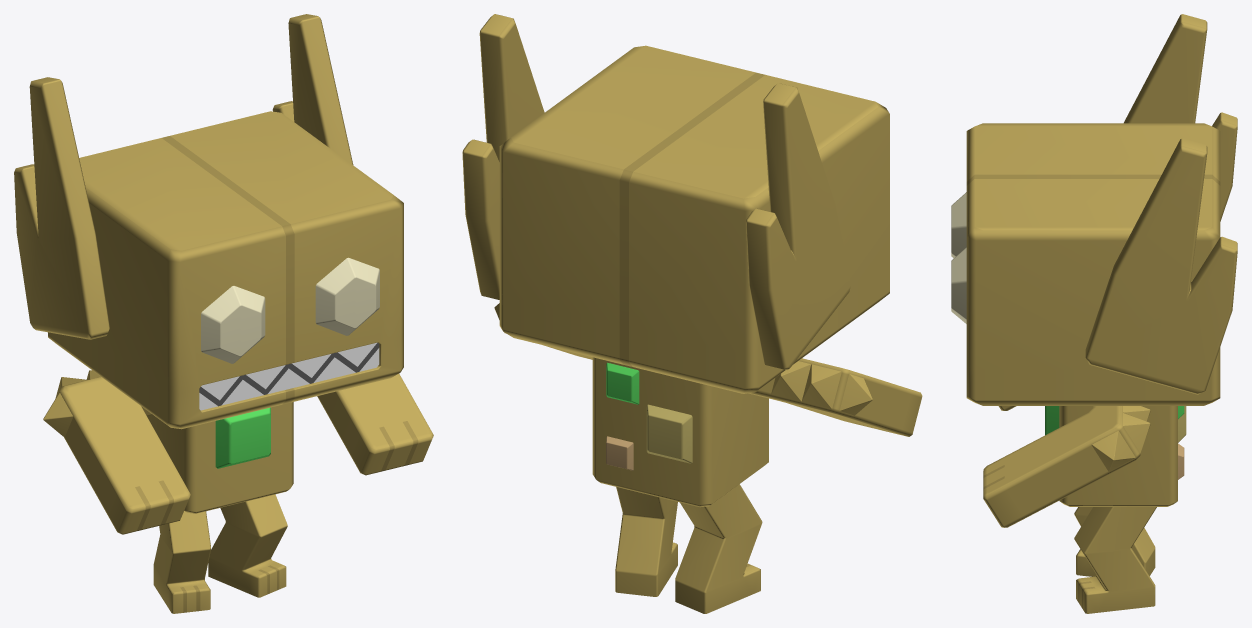
File: model_shiny.obj
3 renders of one model, left to right at view 1: azimuth 30°, elevation 25°; view 2: azimuth 150°, elevation 25°; view 3: azimuth 270°, elevation 25°, orthographic. The views are drawn at different scales.
Parts seen in each view (by area): view 1: 0302_sableye_shiny; view 2: 0302_sableye_shiny; view 3: 0302_sableye_shiny.
Part boxes in pixels (x1=…): 0302_sableye_shiny: x1=14, y1=14, x2=433, y2=613; 0302_sableye_shiny: x1=462, y1=14, x2=922, y2=613; 0302_sableye_shiny: x1=951, y1=14, x2=1237, y2=613.
Size of the model in its own units: 1.86 by 2.66 by 1.36.
1 material, 1 textured.
